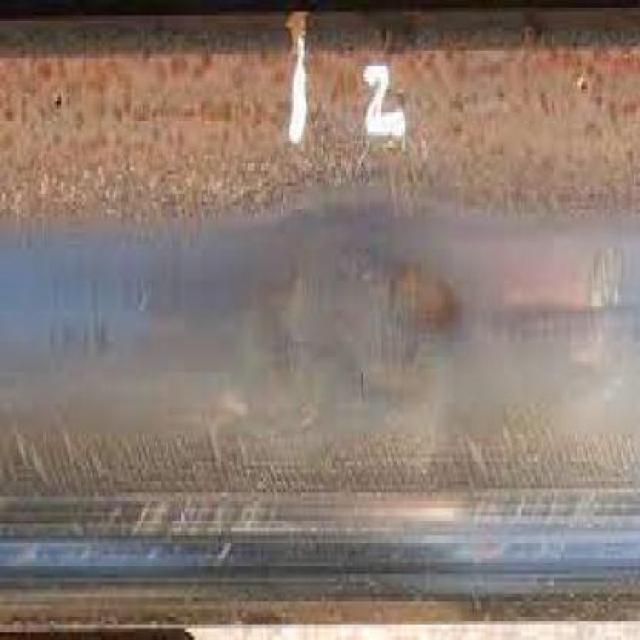defective: (172, 0, 530, 563)
